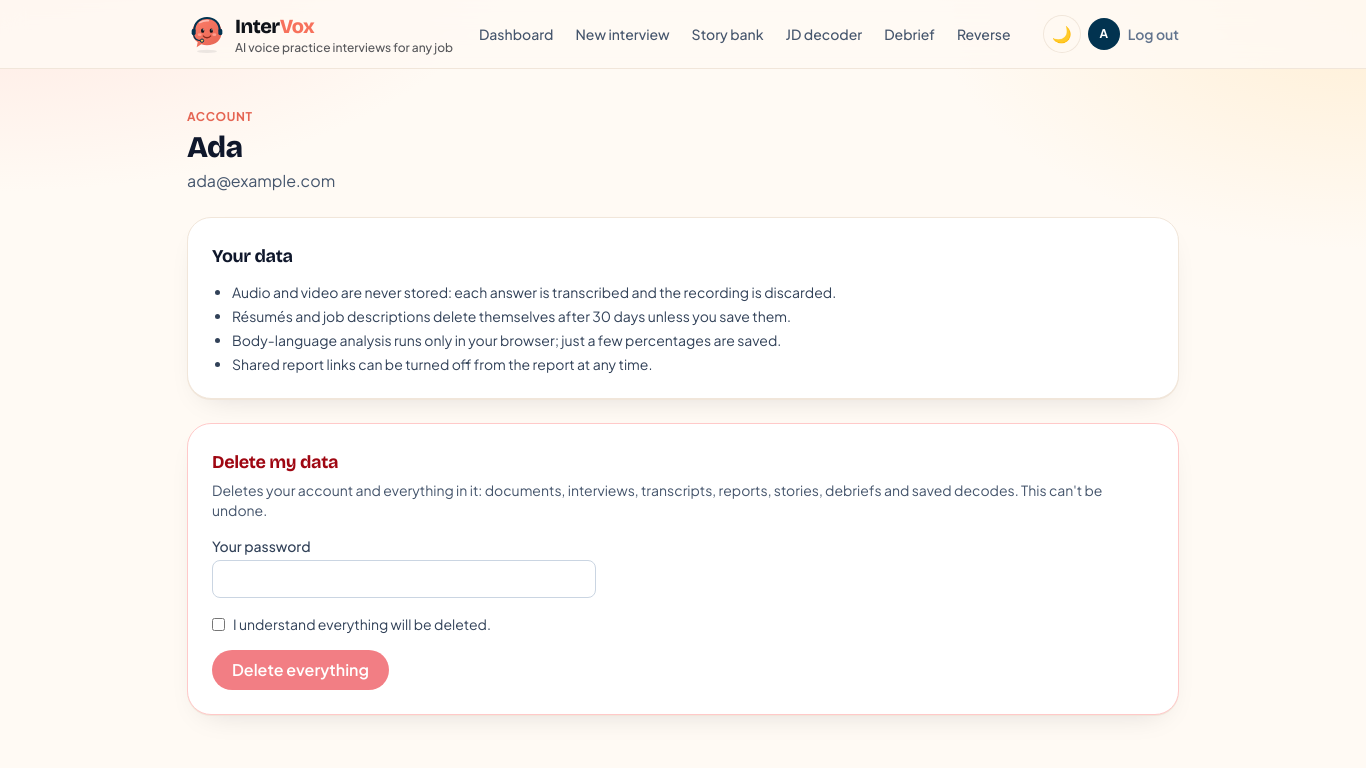
account › shows a wrong password
Step 1. Type "nope" into the password field labelled "Your password" → (404, 579), box [212, 560, 596, 598]
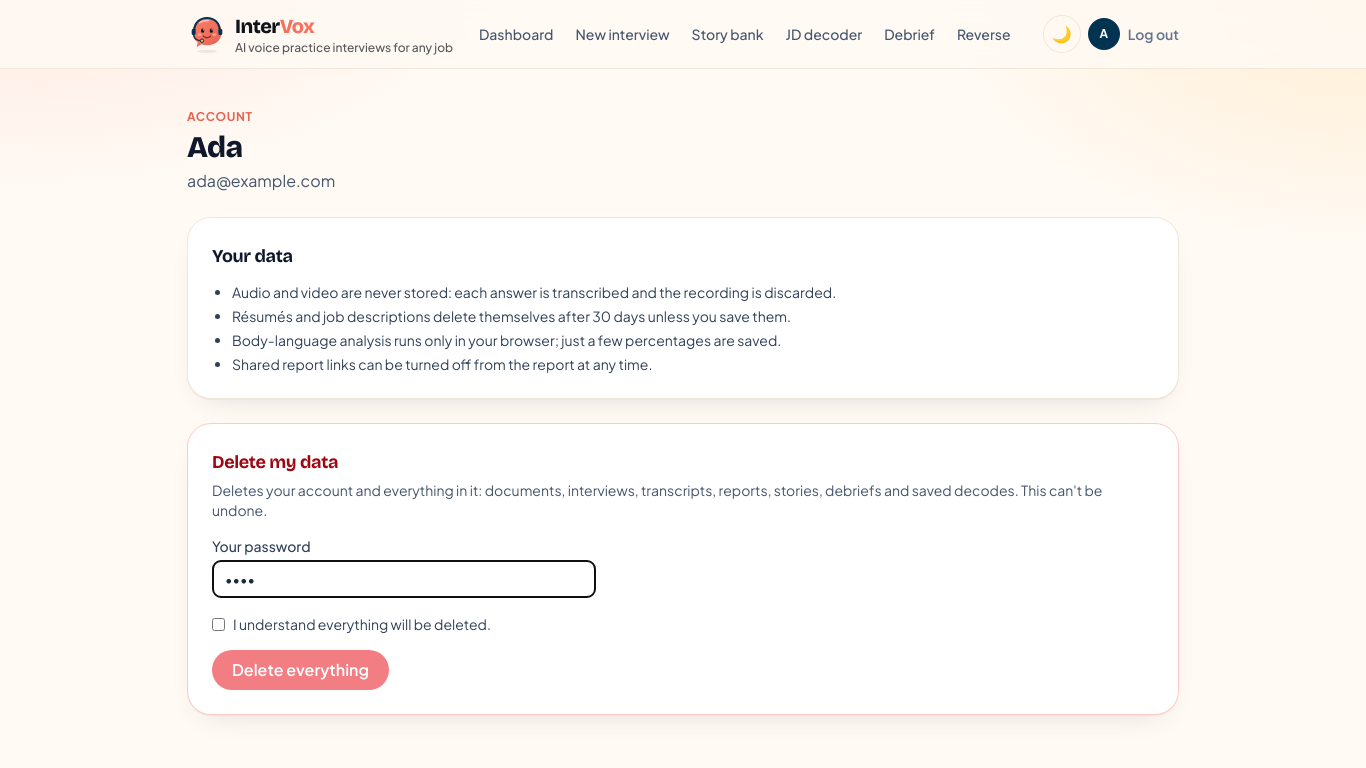
Step 2. Click the checkbox labelled "I understand everything will be deleted." → (218, 624), box [212, 618, 225, 630]
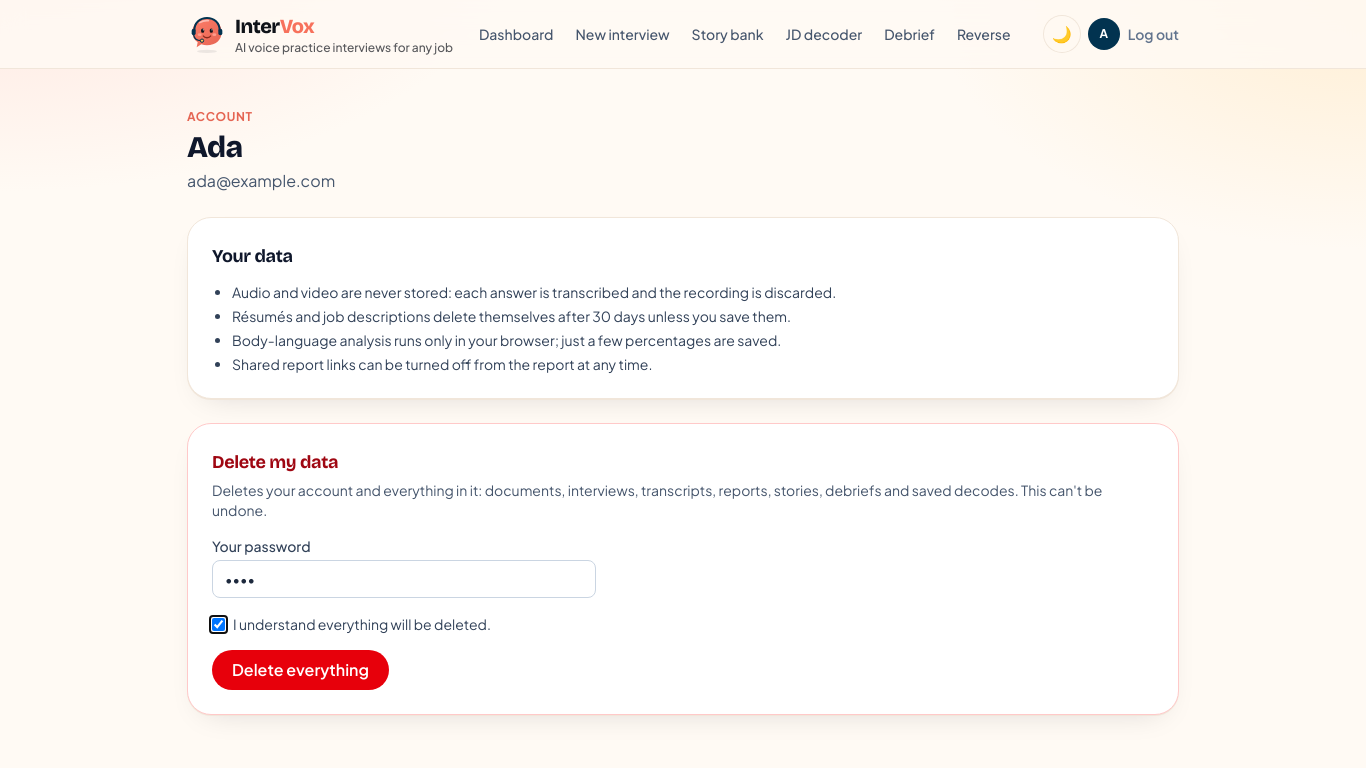
Step 3. Click the button "Delete everything" → (300, 670), box [212, 650, 389, 690]
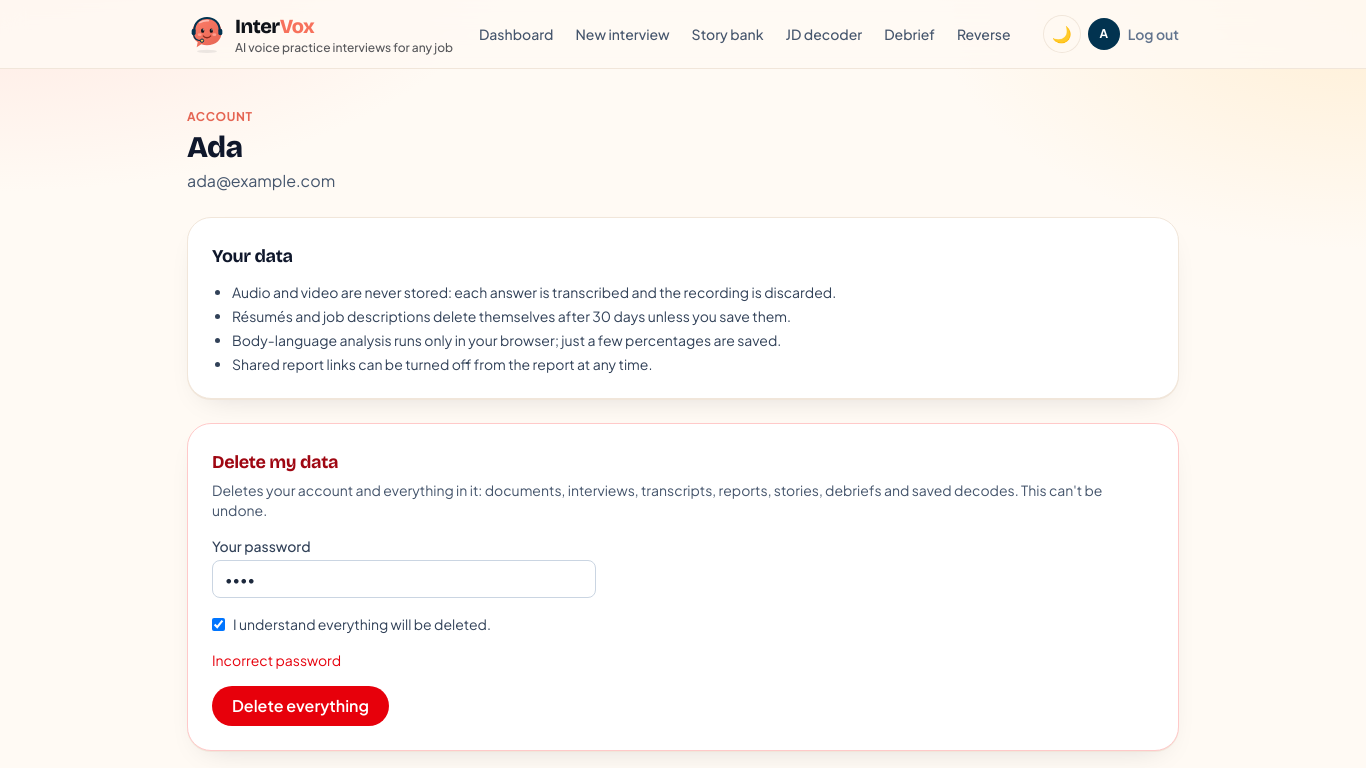
Expected: the message reads "Incorrect password", [212, 651, 341, 669]
